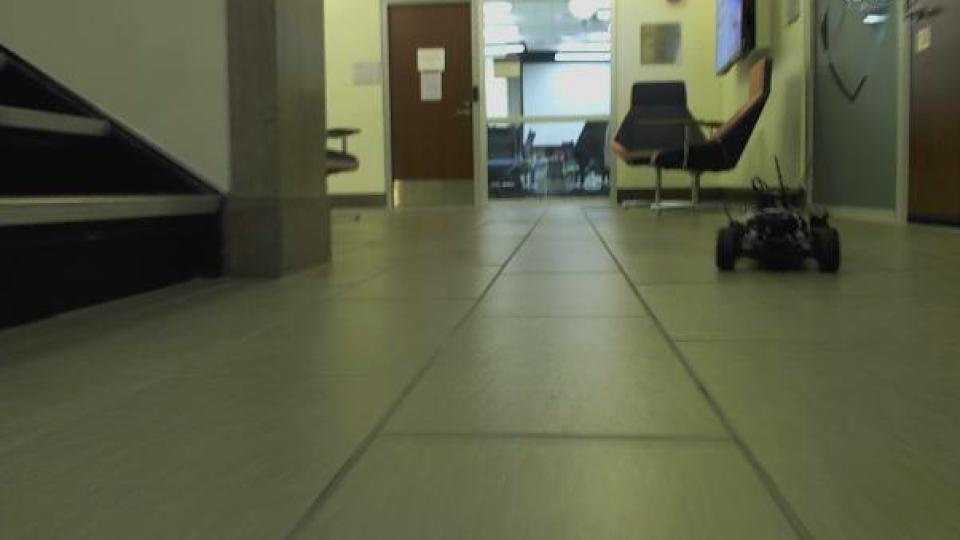car: (713, 154, 845, 276)
